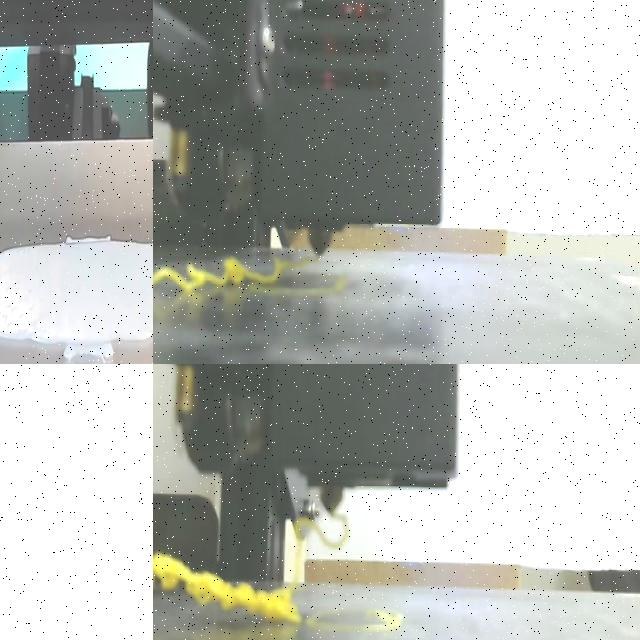spaghetti: (153, 554, 300, 623), (153, 257, 290, 293), (294, 517, 344, 546)
